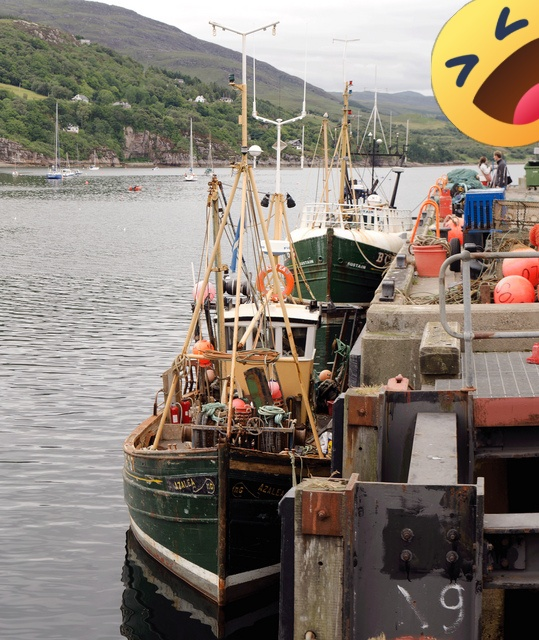haha: (431, 0, 539, 147)
